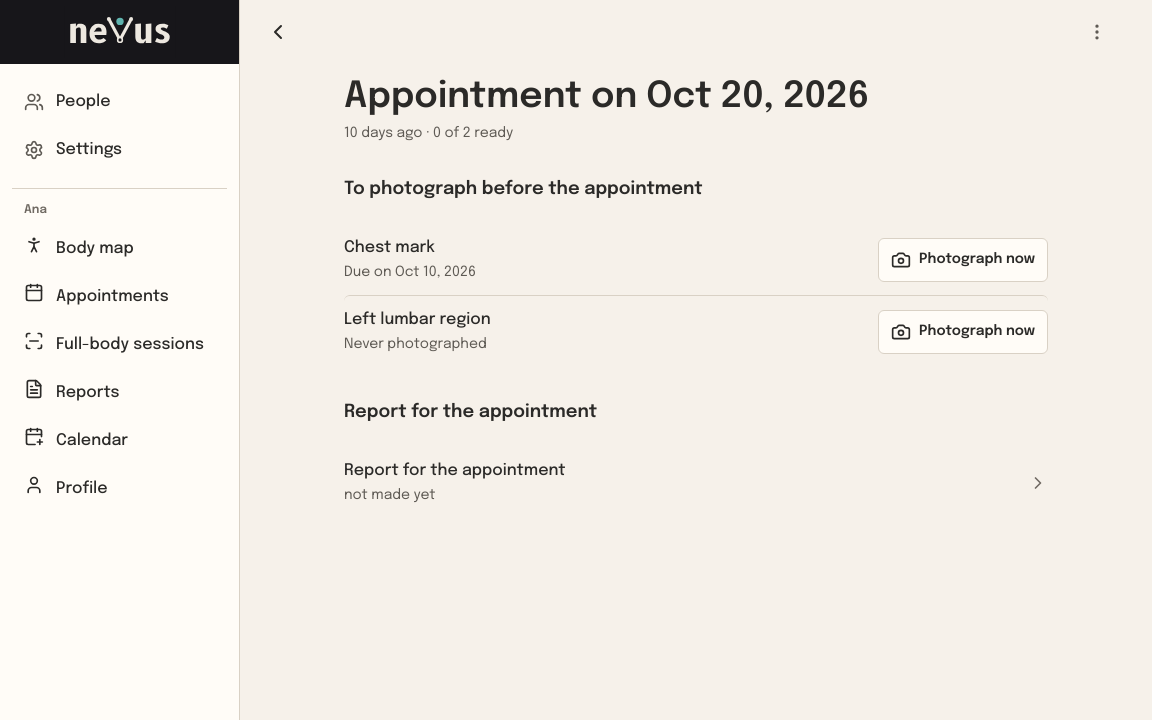
Test: preparing an appointment › starts a visit of a mark from the list
What coordinates should you click on to do the following:
click the button "Photograph now" in the row of "Chest mark"
I would click on:
 (963, 260)
Its box is [878,238,1048,282].
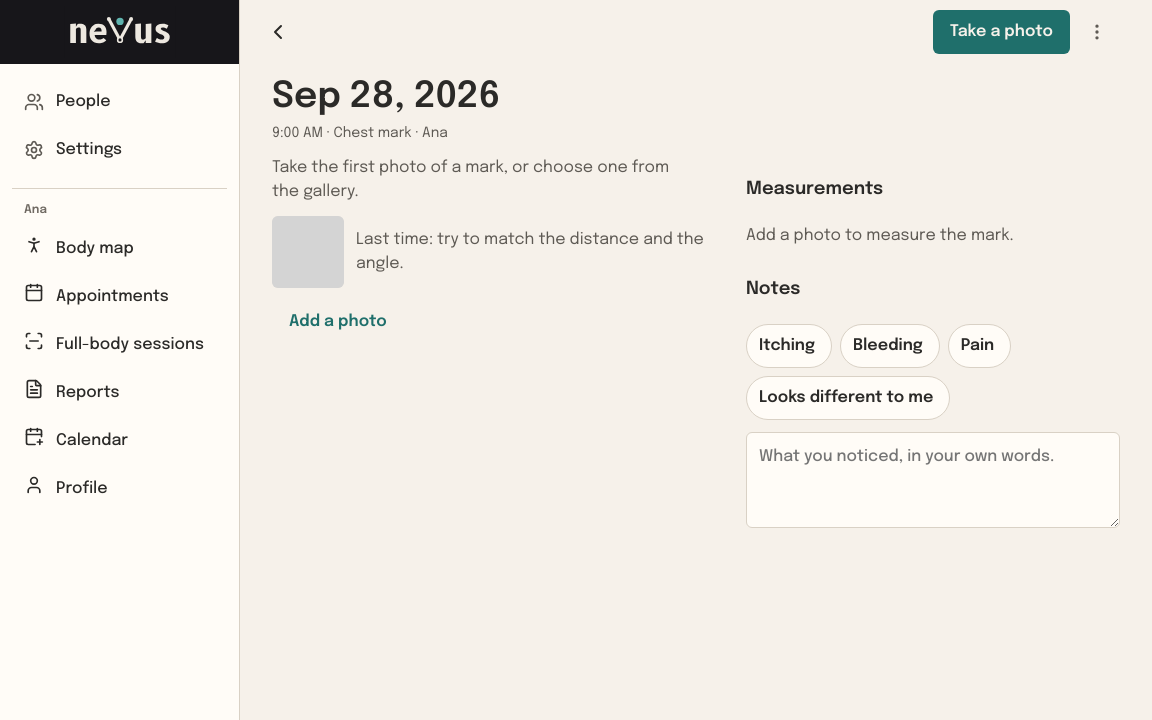
Now the heading "Measurements" is shown, box [746,180,883,198]
